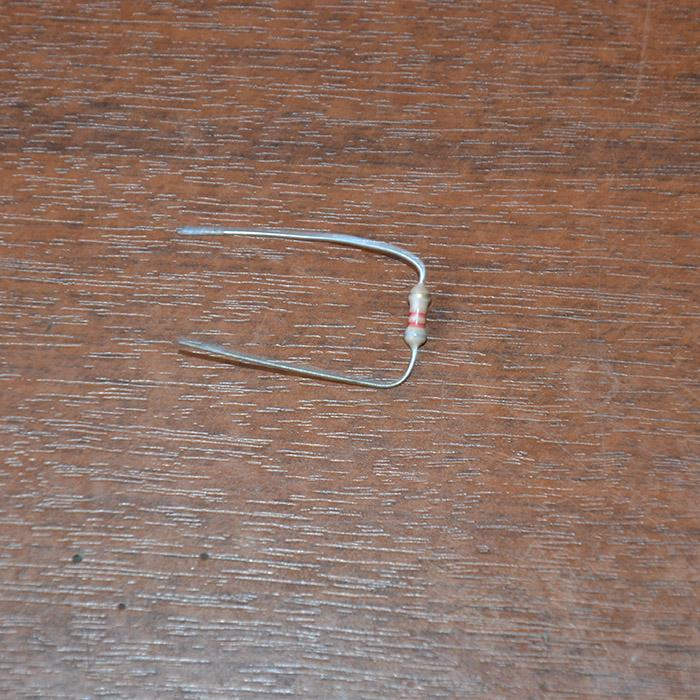resistor: (404, 282, 432, 343)
